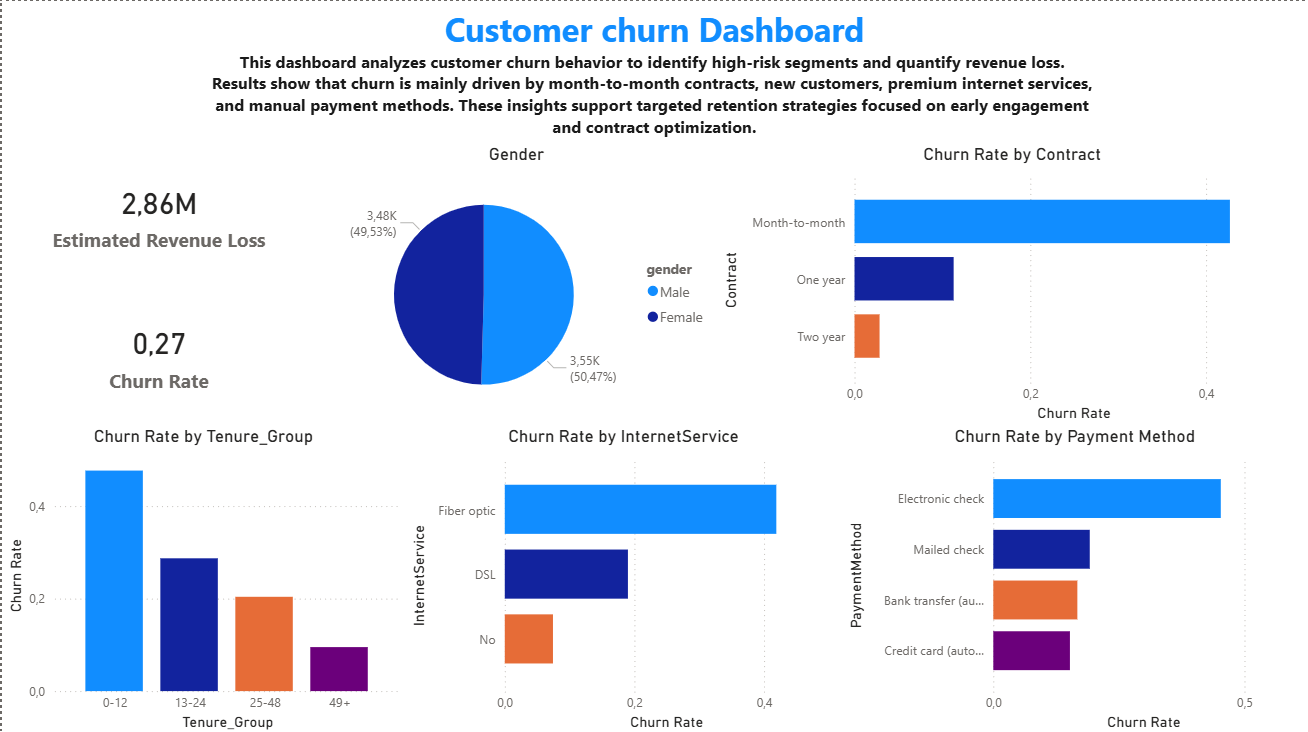

Layout of this report page (visuals, bound fields, positions):
{"tool":"powerbi","page":{"name":"Page 1","canvas":[1280,720],"ordinal":0},"visuals":[{"type":"barChart","title":"Churn Rate by Contract","fields":{"Category":["Sheet1.Contract"],"Y":["Sheet1.Churn Rate"],"Series":["Sheet1.Contract"]},"box":[701.6,139.7,577.9,276.6],"z":0},{"type":"columnChart","title":"Churn Rate by Tenure_Group","fields":{"Category":["Sheet1.Tenure_Group"],"Y":["Sheet1.Churn Rate"],"Series":["Sheet1.Tenure_Group"]},"box":[0,416.2,395.1,303.1],"z":1},{"type":"barChart","title":"Churn Rate by InternetService","fields":{"Y":["Sheet1.Churn Rate"],"Category":["Sheet1.InternetService"],"Series":["Sheet1.InternetService"]},"box":[395.1,416.2,427.7,303.1],"z":3},{"type":"barChart","title":"Churn Rate by Payment Method","fields":{"Category":["Sheet1.PaymentMethod"],"Y":["Sheet1.Churn Rate"],"Series":["Sheet1.PaymentMethod"]},"box":[822.9,416.2,456.5,303.1],"z":4},{"type":"pieChart","title":"Gender","fields":{"Category":["Sheet1.gender"],"Y":["CountNonNull(Sheet1.gender)"]},"box":[307.1,139.7,394.5,276.6],"z":5},{"type":"card","fields":{"Values":["Sheet1.Estimated Revenue Loss"]},"box":[0,139.7,307.1,138.3],"z":6},{"type":"textbox","box":[0,0,1279.4,139.7],"z":7},{"type":"card","fields":{"Values":["Sheet1.Churn Rate"]},"box":[0,278,307.1,136.8],"z":8}]}

Visuals, with their boxes in screenshot pixels (x1, y1, x2, y2), scaled from the page's 1280x720 canvas onto the 1308x732 screenshot:
"Churn Rate by Contract" barChart: (left=717, top=142, right=1307, bottom=423)
"Churn Rate by Tenure_Group" columnChart: (left=0, top=423, right=404, bottom=731)
"Churn Rate by InternetService" barChart: (left=404, top=423, right=841, bottom=731)
"Churn Rate by Payment Method" barChart: (left=841, top=423, right=1307, bottom=731)
"Gender" pieChart: (left=314, top=142, right=717, bottom=423)
card - Sheet1.Estimated Revenue Loss: (left=0, top=142, right=314, bottom=283)
textbox: (left=0, top=0, right=1307, bottom=142)
card - Sheet1.Churn Rate: (left=0, top=283, right=314, bottom=422)
